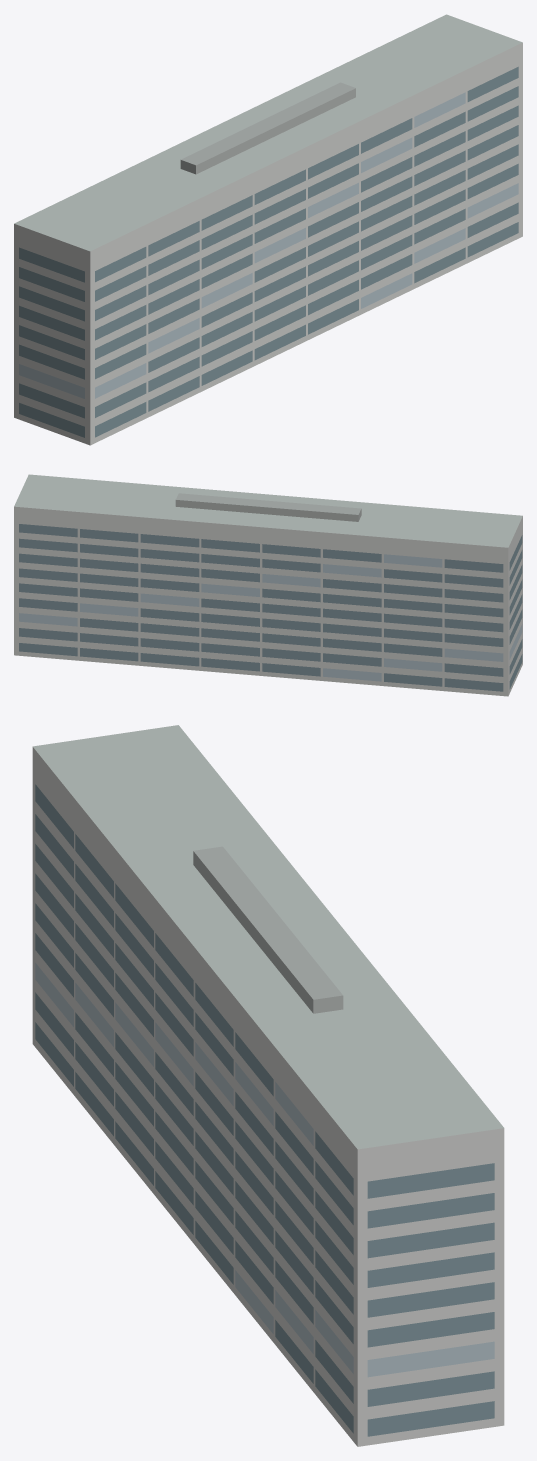
Rendered from named-apt-55d2693a-465e-41fb-9da1-29280111501d.glb.
3 views of the same model, one above another, from view 1: azimuth 30°, elevation 25°; view 2: azimuth 150°, elevation 25°; view 3: azimuth 270°, elevation 25° (orthographic). The views are drawn at different scales.
Visible parts, largest first — view 1: named-apt-55d2693a-465e-41fb-9da1-29280111501d; view 2: named-apt-55d2693a-465e-41fb-9da1-29280111501d; view 3: named-apt-55d2693a-465e-41fb-9da1-29280111501d.
Part boxes in pixels (x1,y1,x2,y2): named-apt-55d2693a-465e-41fb-9da1-29280111501d: (14, 14, 522, 445); named-apt-55d2693a-465e-41fb-9da1-29280111501d: (14, 474, 522, 696); named-apt-55d2693a-465e-41fb-9da1-29280111501d: (32, 725, 504, 1446).
Bounding box in the file's own units: 78.9 × 27 × 37.07.
